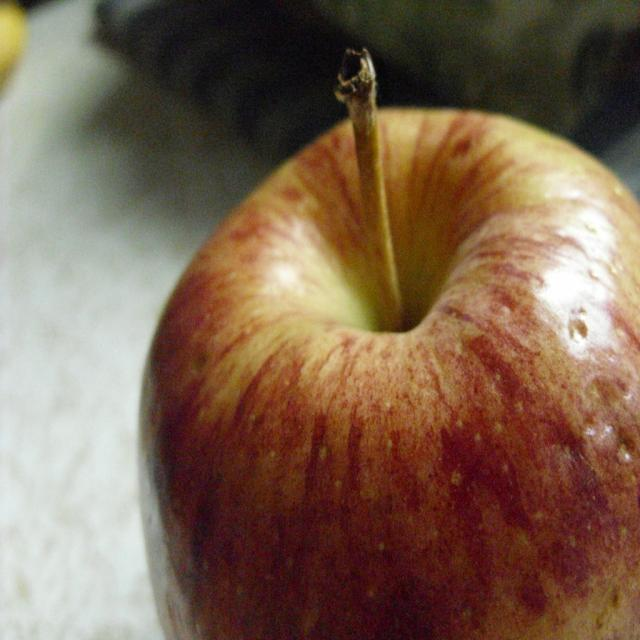Apple: (138, 46, 640, 638)
